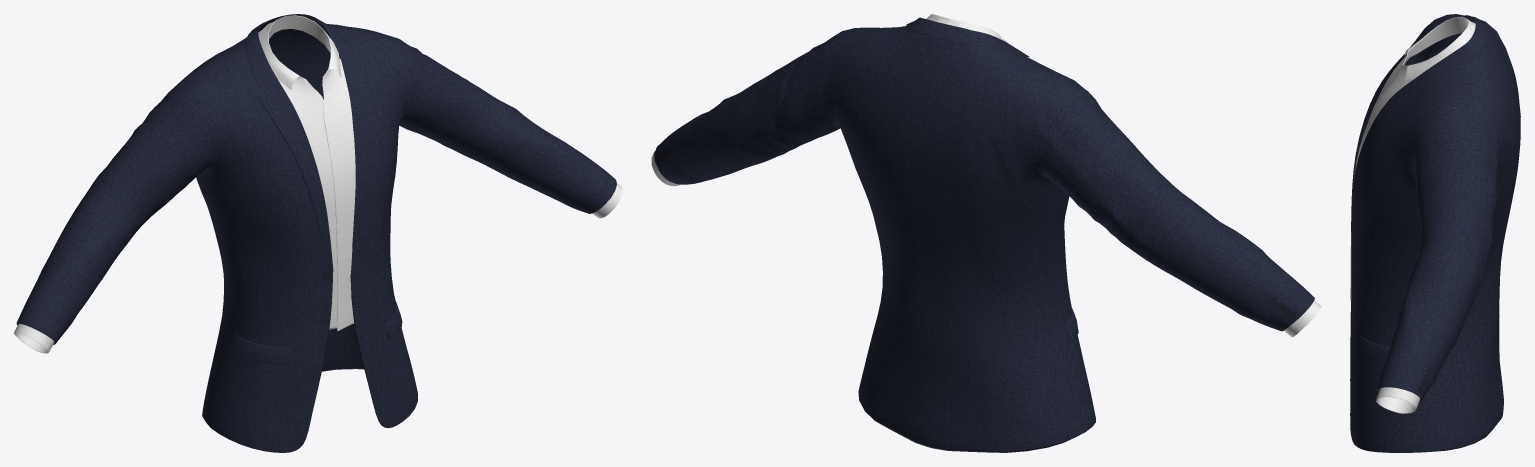
Rendered from man-coprate.glb.
3 views of the same model, side by side, from view 1: azimuth 30°, elevation 25°; view 2: azimuth 150°, elevation 25°; view 3: azimuth 270°, elevation 25° (orthographic). The views are drawn at different scales.
Parts seen in each view (by area): view 1: Jacket_low, accessories_low; view 2: Jacket_low; view 3: Jacket_low, accessories_low.
Boxes of the visible parts, box(x1,y1,x2,y2) form: Jacket_low: box(14, 14, 622, 452); accessories_low: box(230, 302, 402, 365); Jacket_low: box(651, 14, 1321, 452); Jacket_low: box(1350, 14, 1520, 452); accessories_low: box(1357, 336, 1390, 365).
Bounding box in the file's own units: 2 × 1.21 × 0.4766.
Materials: 1 (1 with a texture image).
